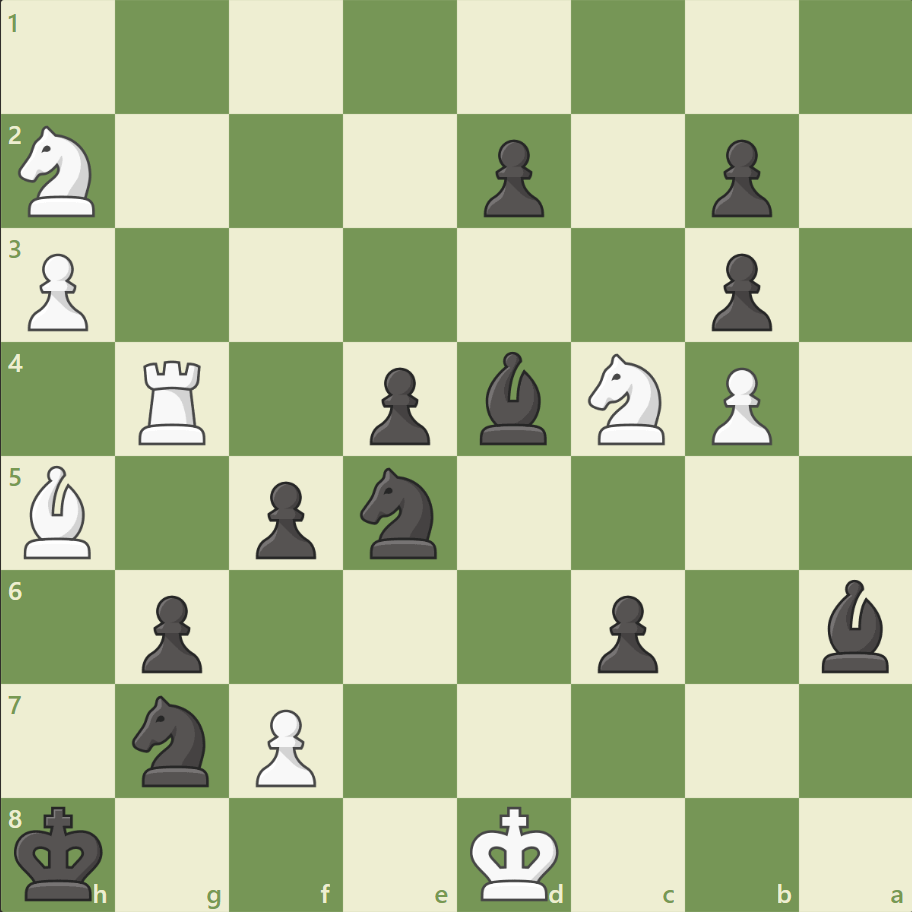B: (17, 460, 101, 563)
K: (465, 798, 565, 906)
N: (579, 348, 676, 450), (11, 121, 108, 223)
P: (247, 700, 322, 791), (701, 359, 776, 450), (20, 246, 95, 337)
R: (133, 352, 215, 449)
b: (812, 574, 896, 676), (471, 347, 555, 449)
k: (11, 798, 111, 906)
n: (124, 688, 222, 791), (351, 461, 449, 564)
p: (133, 586, 208, 677), (247, 473, 322, 564), (701, 246, 776, 337), (701, 132, 776, 223), (474, 132, 549, 223), (588, 586, 662, 677), (361, 359, 435, 450)
